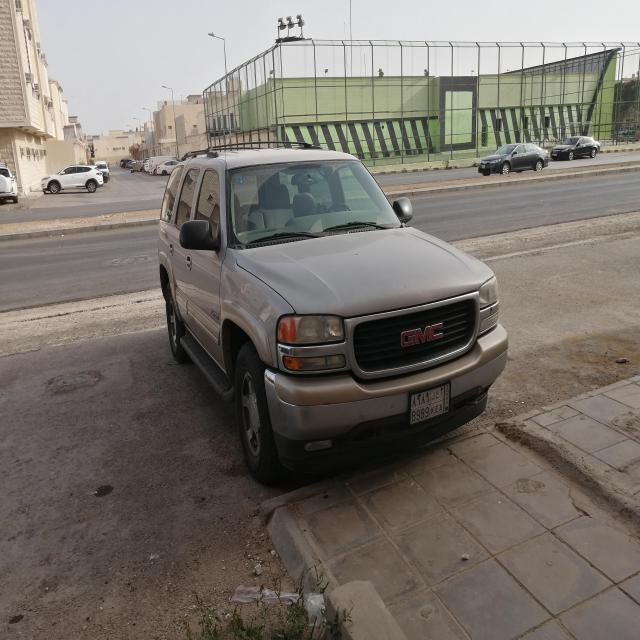license_plate: (410, 379, 451, 425)
